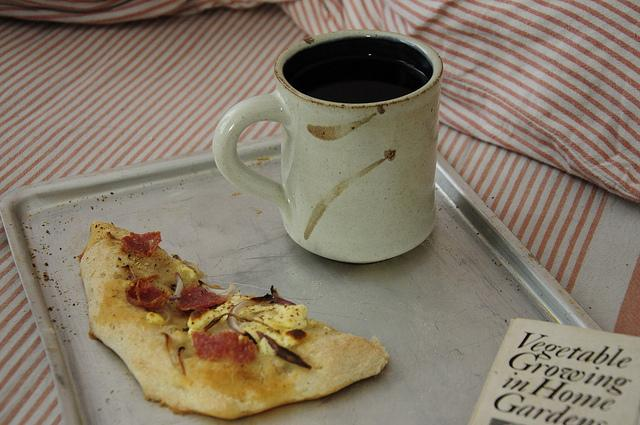cup: (212, 30, 442, 262), (213, 30, 442, 262)
